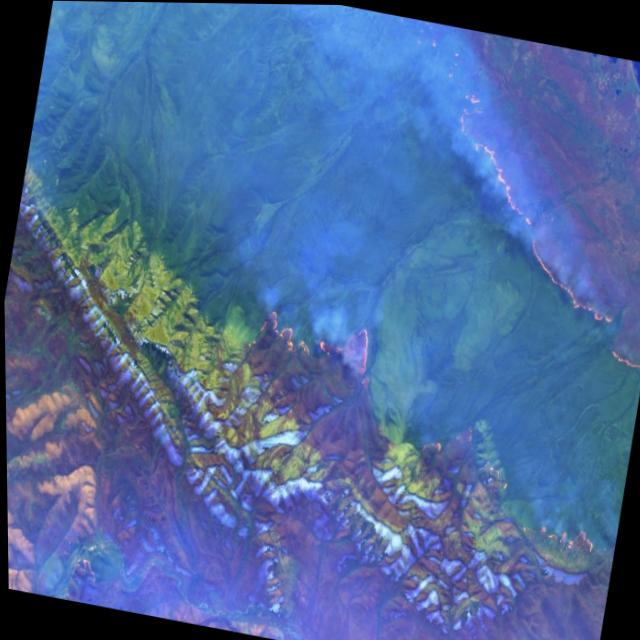fire: (410, 25, 640, 374), (245, 299, 386, 398), (503, 501, 601, 562)
